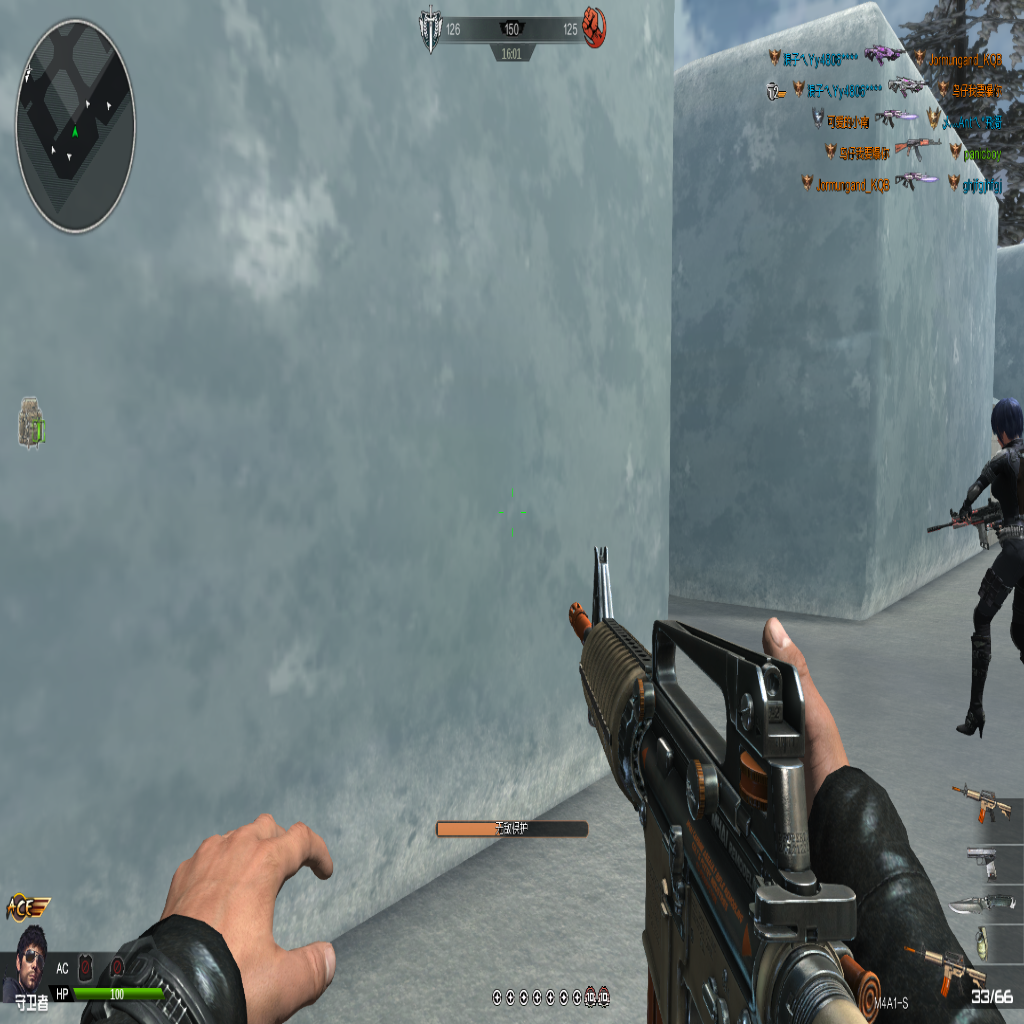ct: (955, 404, 1022, 730)
